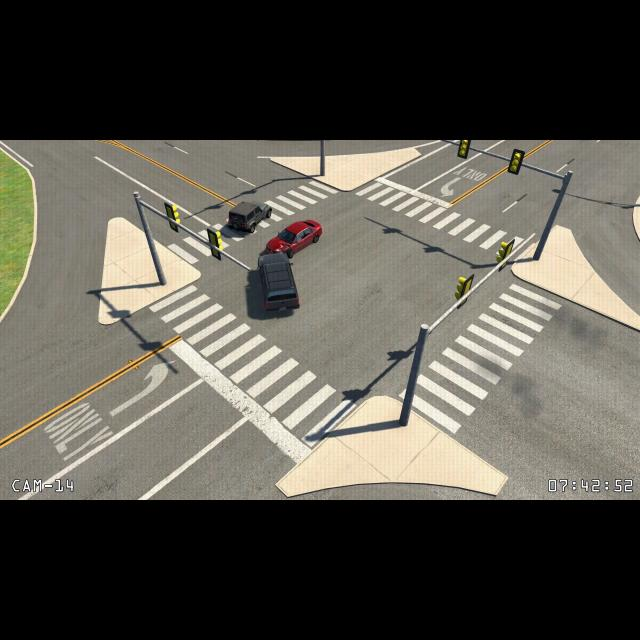accident: (255, 219, 327, 315)
